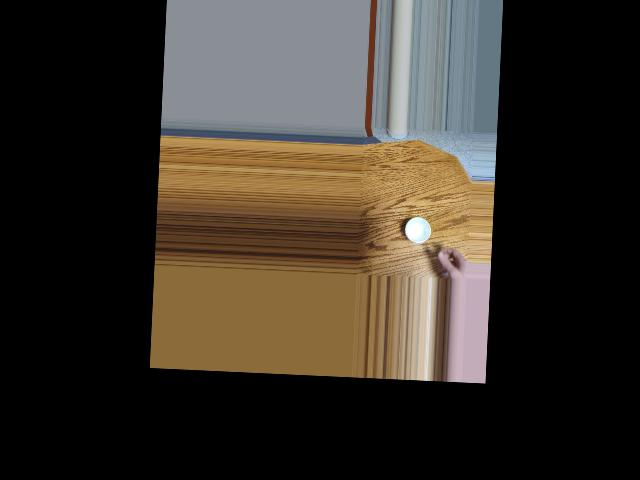cotage: (404, 213, 434, 248)
